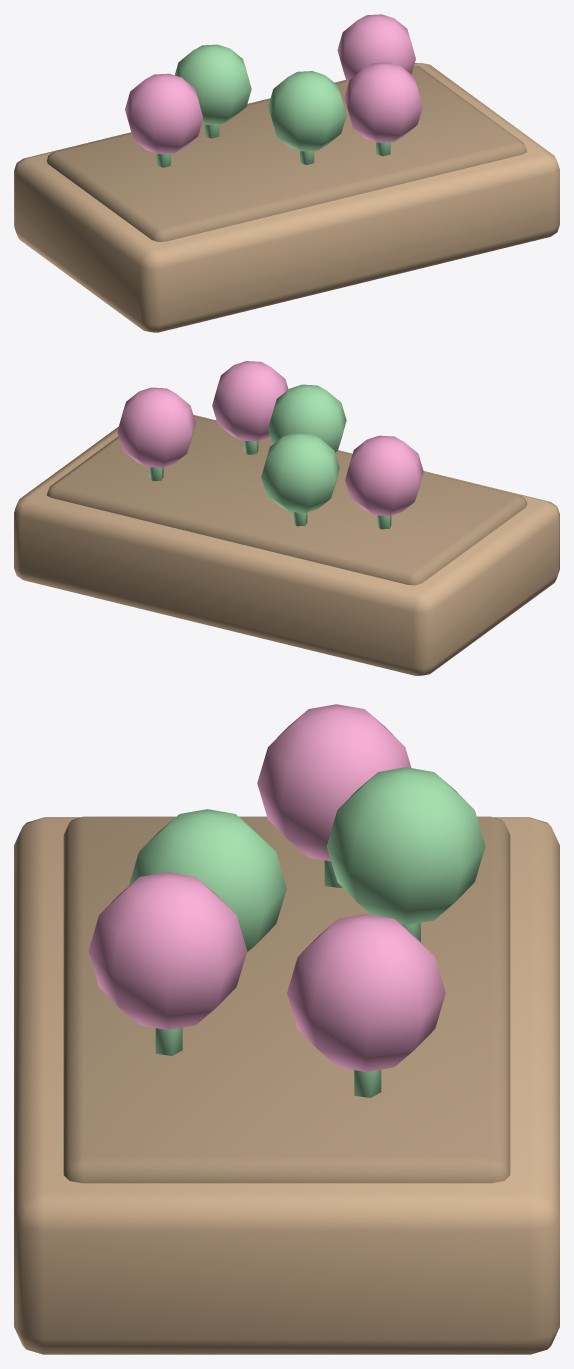
The model's file is cozy_flower_bed_B.glb.
The picture shows the model from 3 angles, top to bottom: view 1: azimuth 30°, elevation 25°; view 2: azimuth 150°, elevation 25°; view 3: azimuth 270°, elevation 25°; orthographic projection. The views are drawn at different scales.
Parts seen in each view (by area): view 1: Frame, Soil, Bloom4, Bloom1, Bloom0, Bloom3, Bloom2; view 2: Frame, Soil, Bloom0, Bloom3, Bloom2, Bloom4, Bloom1; view 3: Frame, Soil, Bloom4, Bloom2, Bloom3, Bloom0, Bloom1.
Part boxes in pixels (x1,y1,x2,y2): Frame: (14, 63, 559, 332); Soil: (46, 65, 526, 241); Bloom4: (344, 62, 422, 142); Bloom1: (268, 71, 346, 151); Bloom0: (125, 73, 203, 153); Bloom3: (175, 44, 251, 124); Bloom2: (337, 14, 415, 82); Frame: (14, 415, 559, 675); Soil: (47, 416, 527, 585); Bloom0: (345, 435, 423, 515); Bloom3: (261, 432, 339, 512); Bloom2: (117, 387, 195, 467); Bloom4: (212, 361, 288, 441); Bloom1: (268, 384, 346, 452); Frame: (14, 817, 559, 1354); Soil: (63, 816, 510, 1183); Bloom4: (88, 872, 247, 1030); Bloom2: (287, 914, 445, 1071); Bloom3: (326, 767, 485, 925); Bloom0: (257, 704, 411, 861); Bloom1: (129, 809, 286, 952).
Size of the model in its own units: 0.95 by 0.39 by 0.55.
